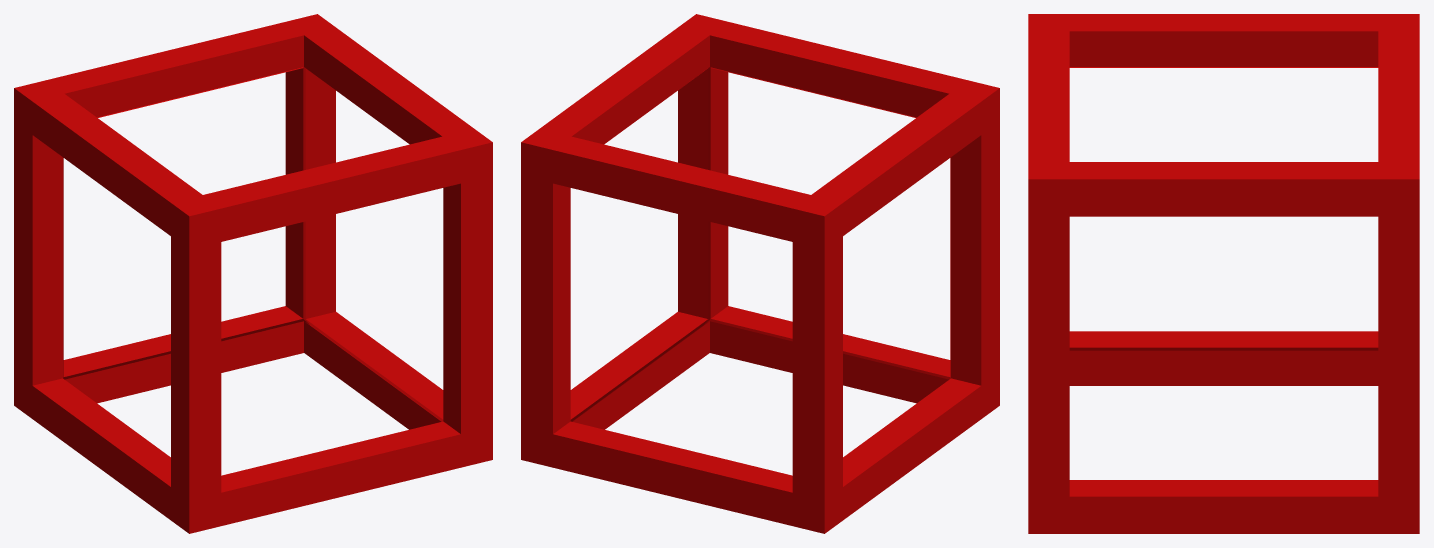
File: Cursor.fbx
3 views of the same model, side by side, from view 1: azimuth 30°, elevation 25°; view 2: azimuth 150°, elevation 25°; view 3: azimuth 270°, elevation 25° (orthographic). The views are drawn at different scales.
Visible parts, largest first — view 1: Cursor; view 2: Cursor; view 3: Cursor.
Boxes of the visible parts, left/top/right/bottom form: Cursor: left=14, top=14, right=492, bottom=533; Cursor: left=521, top=14, right=999, bottom=533; Cursor: left=1028, top=14, right=1419, bottom=533.
Size of the model in its own units: 200 by 200 by 200.
